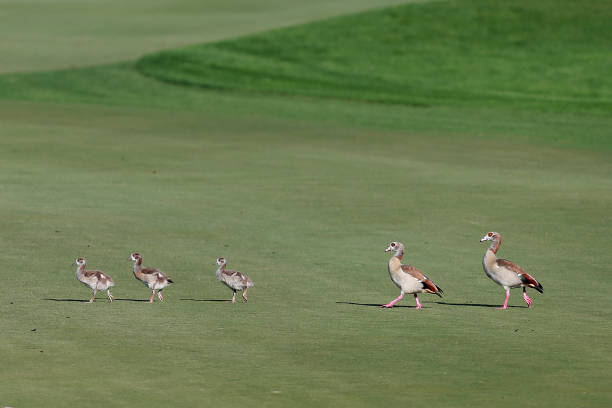goose: (470, 227, 548, 310), (379, 236, 445, 316)
